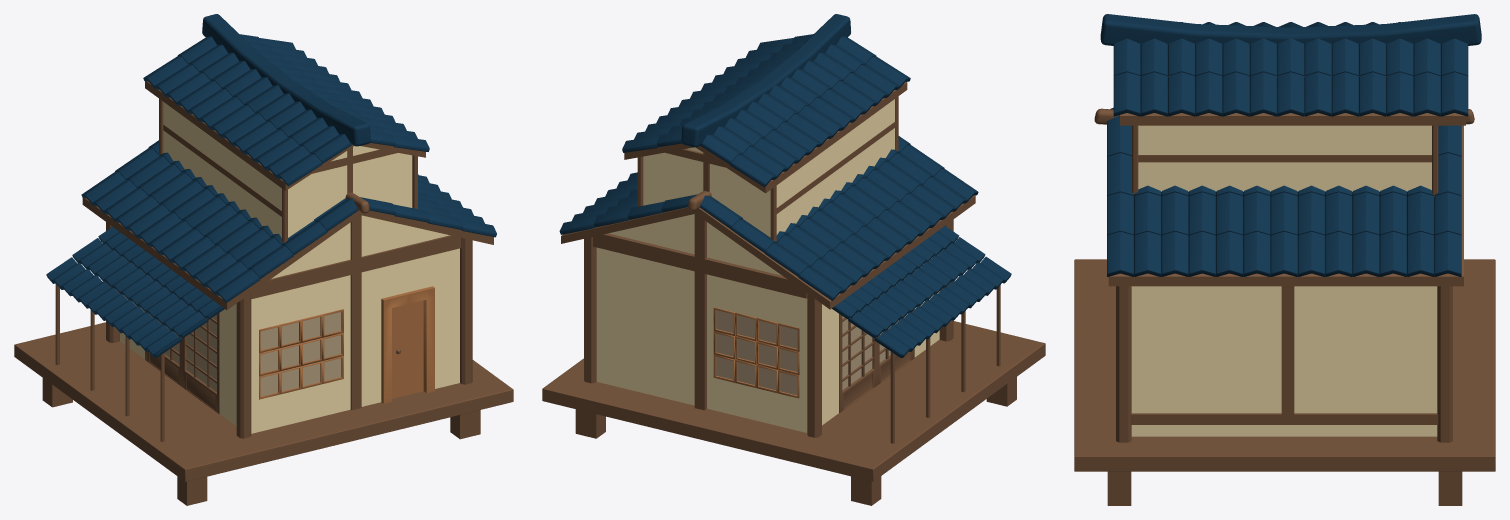
File: House_3.fbx
The picture shows the model from 3 angles, left to right: view 1: azimuth 30°, elevation 25°; view 2: azimuth 150°, elevation 25°; view 3: azimuth 270°, elevation 25°; orthographic projection. The views are drawn at different scales.
Parts seen in each view (by area): view 1: House_3; view 2: House_3; view 3: House_3.
Boxes of the visible parts, box(x1,y1,x2,y2) form: House_3: box(14, 14, 513, 505); House_3: box(542, 14, 1045, 505); House_3: box(1074, 14, 1495, 505).
Size of the model in its own units: 7520 by 7405 by 6780.
